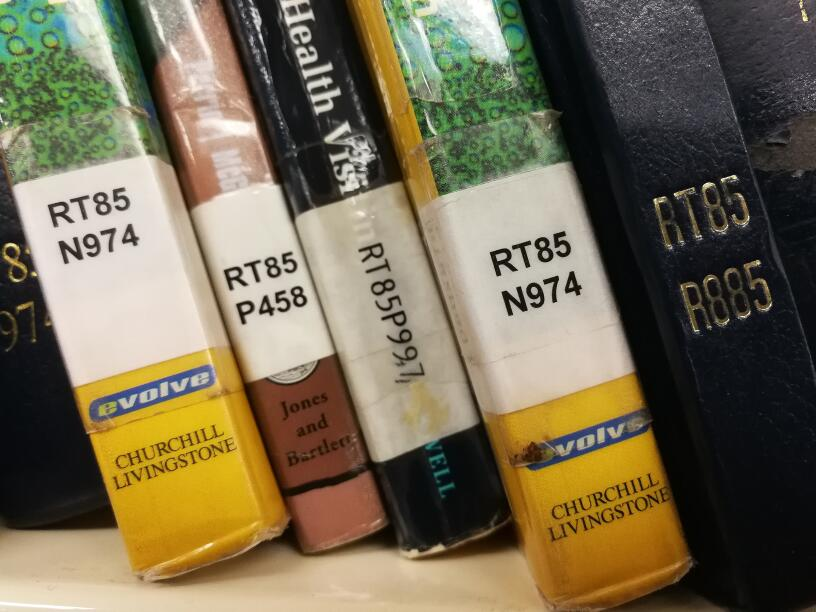booklabel: (649, 170, 777, 335), (354, 239, 431, 379), (486, 226, 586, 318), (44, 182, 143, 267), (220, 248, 312, 327)
